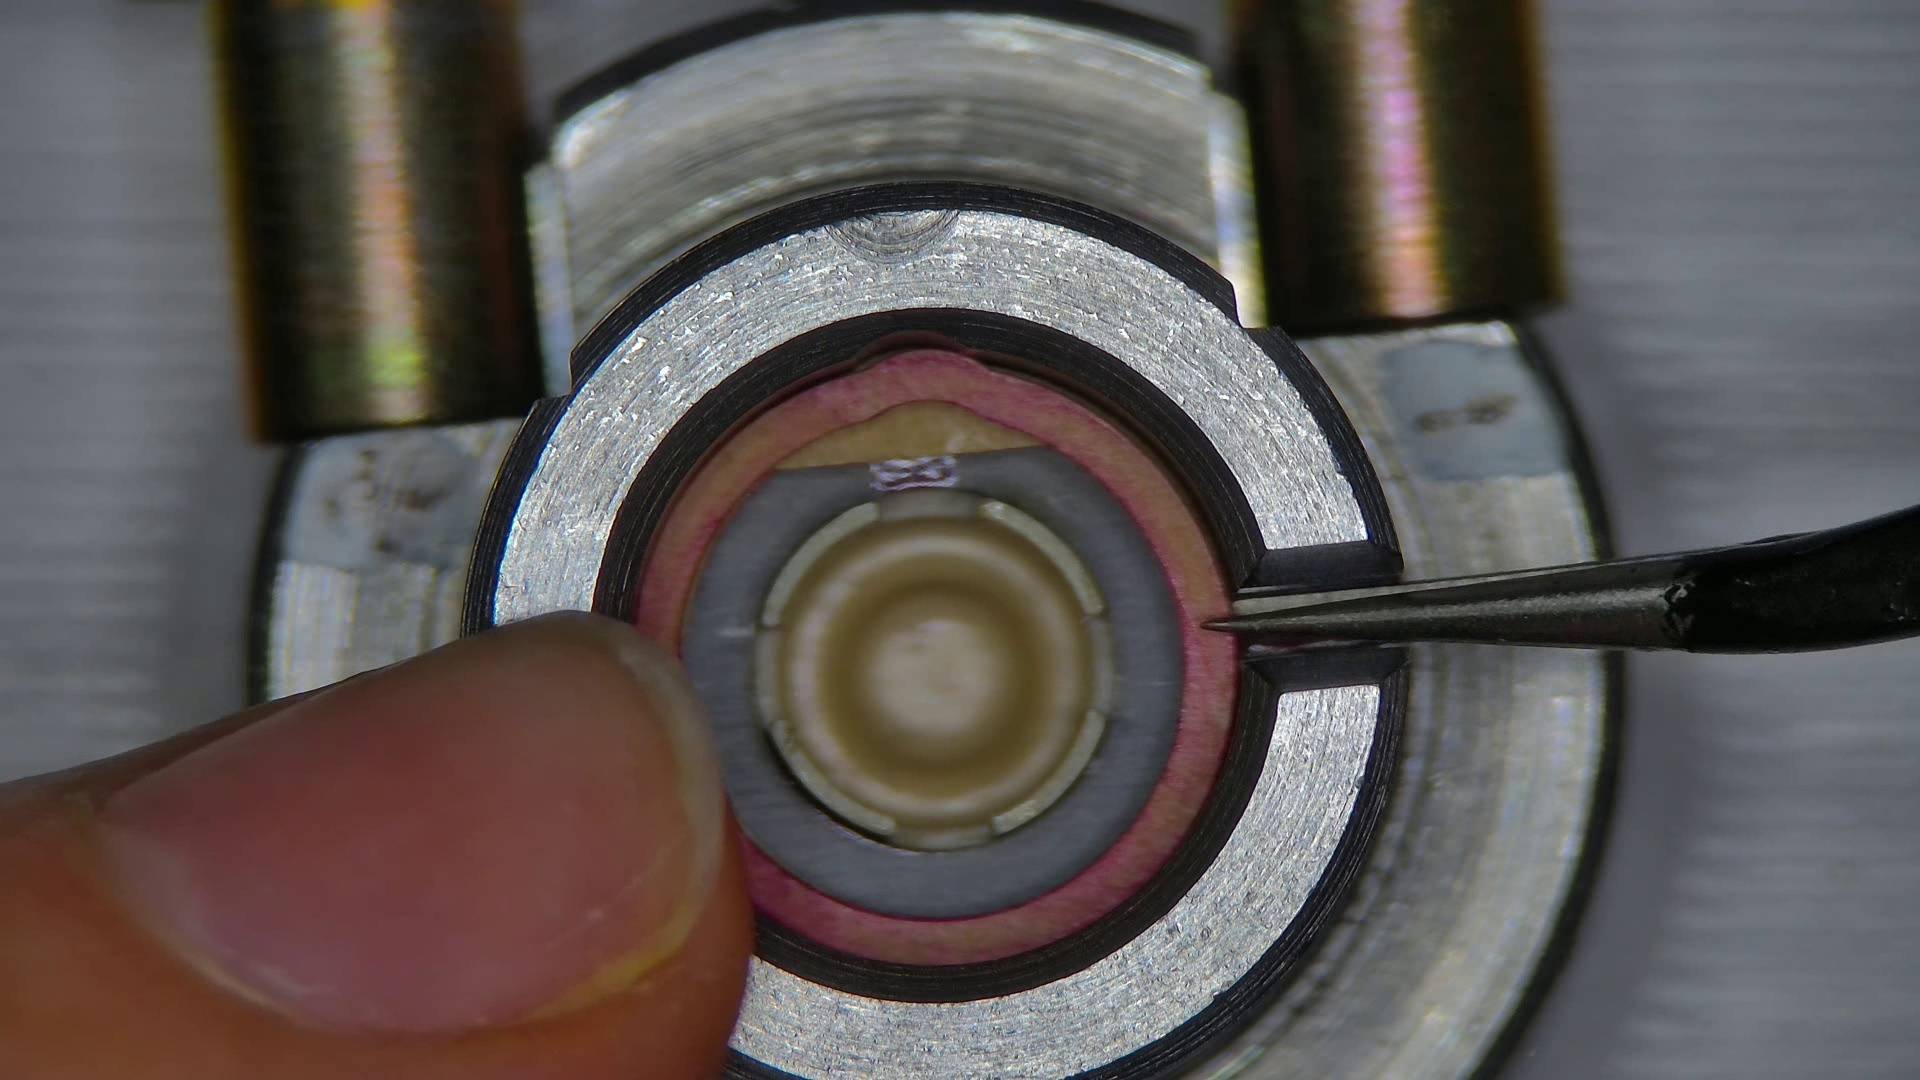GreyOring: (637, 345, 1232, 964)
YellowOring: (684, 456, 1179, 916)
redOring: (783, 404, 1038, 465)
